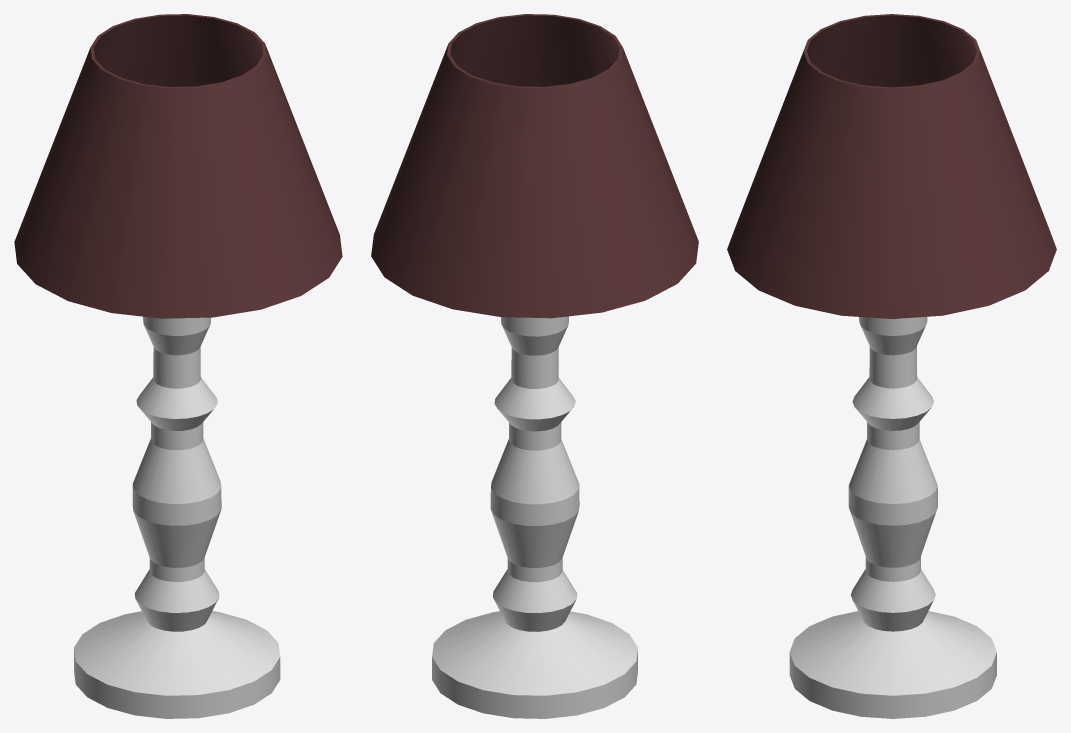
Rendered from LampeChevet1_6.fbx.
The picture shows the model from 3 angles, left to right: view 1: azimuth 30°, elevation 25°; view 2: azimuth 150°, elevation 25°; view 3: azimuth 270°, elevation 25°; orthographic projection.
Parts seen in each view (by area): view 1: pPipe38, pCylinder230; view 2: pPipe38, pCylinder230; view 3: pPipe38, pCylinder230.
Part boxes in pixels (x1,y1,x2,y2): pPipe38: [14, 14, 342, 318]; pCylinder230: [74, 316, 280, 718]; pPipe38: [371, 14, 698, 318]; pCylinder230: [432, 316, 637, 718]; pPipe38: [727, 14, 1056, 318]; pCylinder230: [789, 316, 996, 718].
Size of the model in its own units: 15.07 by 31.45 by 15.07.
